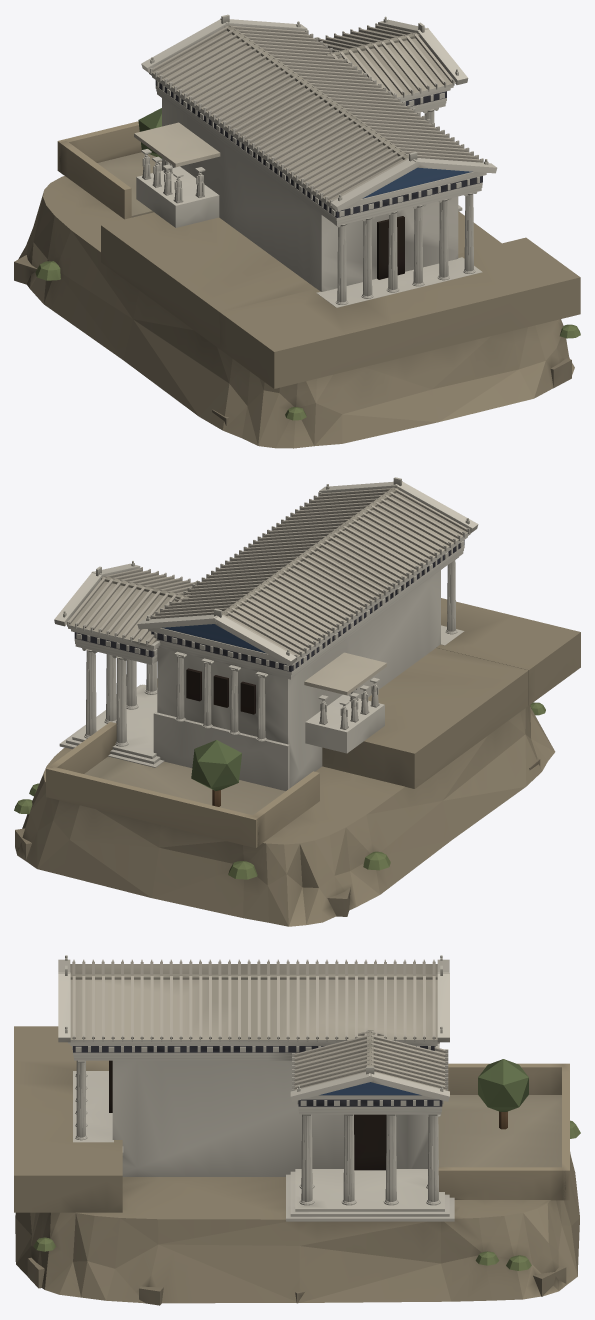
Rendered from erechtheion.glb.
3 views of the same model, one above another, from view 1: azimuth 30°, elevation 25°; view 2: azimuth 150°, elevation 25°; view 3: azimuth 270°, elevation 25° (orthographic). The views are drawn at different scales.
Parts seen in each view (by area): view 1: p0_rock, p3_roof, p1_walls, p2_entablature; view 2: p0_rock, p1_walls, p3_roof, p2_entablature; view 3: p0_rock, p1_walls, p3_roof, p2_entablature.
Boxes of the visible parts, x1,y1,x2,y2 form: p0_rock: (14,176,580,448); p3_roof: (138,14,497,211); p1_walls: (57,98,482,307); p2_entablature: (134,35,486,225); p0_rock: (14,598,580,926); p1_walls: (46,557,464,848); p3_roof: (54,477,478,806); p2_entablature: (68,532,470,695); p0_rock: (14,1026,580,1305); p1_walls: (73,1043,569,1221); p3_roof: (58,955,528,1129); p2_entablature: (68,1040,443,1114).
Bounding box in the file's own units: 30.86 × 20.32 × 41.7.
